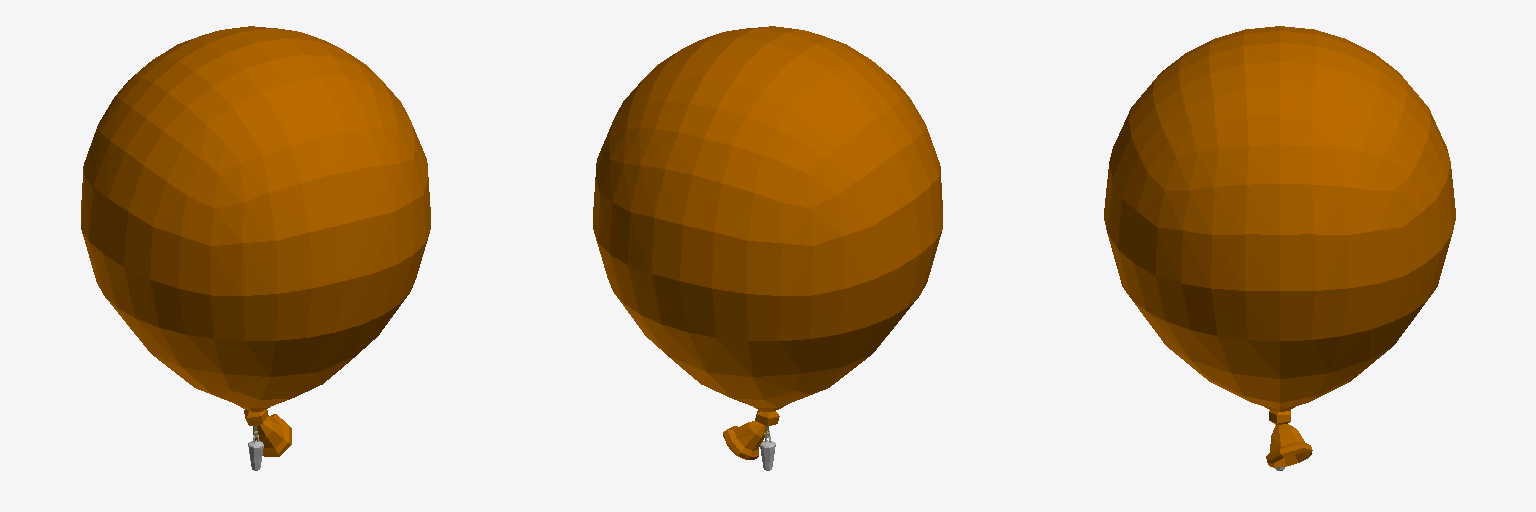
3 renders of one model, left to right at view 1: azimuth 30°, elevation 25°; view 2: azimuth 150°, elevation 25°; view 3: azimuth 270°, elevation 25°, orthographic.
Visible parts, largest first — view 1: Baloon__Mt_Balloon; view 2: Baloon__Mt_Balloon; view 3: Baloon__Mt_Balloon.
Boxes of the visible parts, x1,y1,x2,y2 form: Baloon__Mt_Balloon: [81, 26, 430, 456]; Baloon__Mt_Balloon: [593, 26, 942, 459]; Baloon__Mt_Balloon: [1104, 26, 1455, 467].
Size of the model in its own units: 37.99 by 50.71 by 37.99.
Materials: 2 (2 with a texture image).